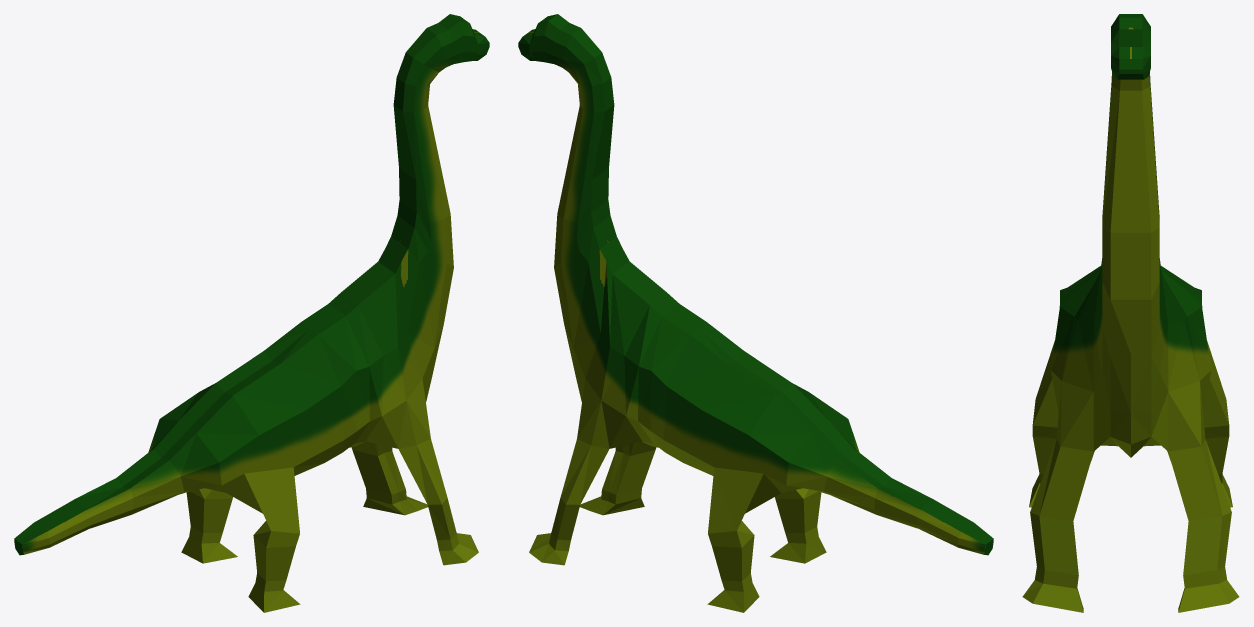
File: brachiosaurus.obj
3 renders of one model, left to right at view 1: azimuth 30°, elevation 25°; view 2: azimuth 150°, elevation 25°; view 3: azimuth 270°, elevation 25°, orthographic. The views are drawn at different scales.
Visible parts, largest first — view 1: Brachiosaurus_Plane; view 2: Brachiosaurus_Plane; view 3: Brachiosaurus_Plane.
Part boxes in pixels (<box>): Brachiosaurus_Plane: <box>14,14,489,612</box>; Brachiosaurus_Plane: <box>518,14,993,612</box>; Brachiosaurus_Plane: <box>1022,14,1239,612</box>.
Bounding box in the file's own units: 8.56 × 8.92 × 2.9.
